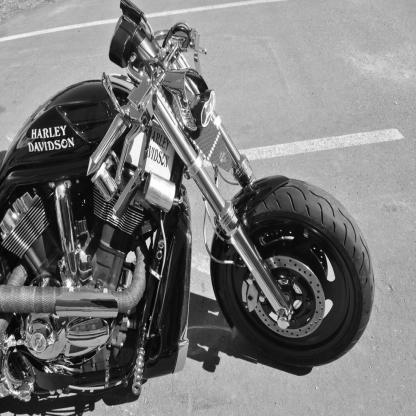moto: (1, 1, 373, 411)
